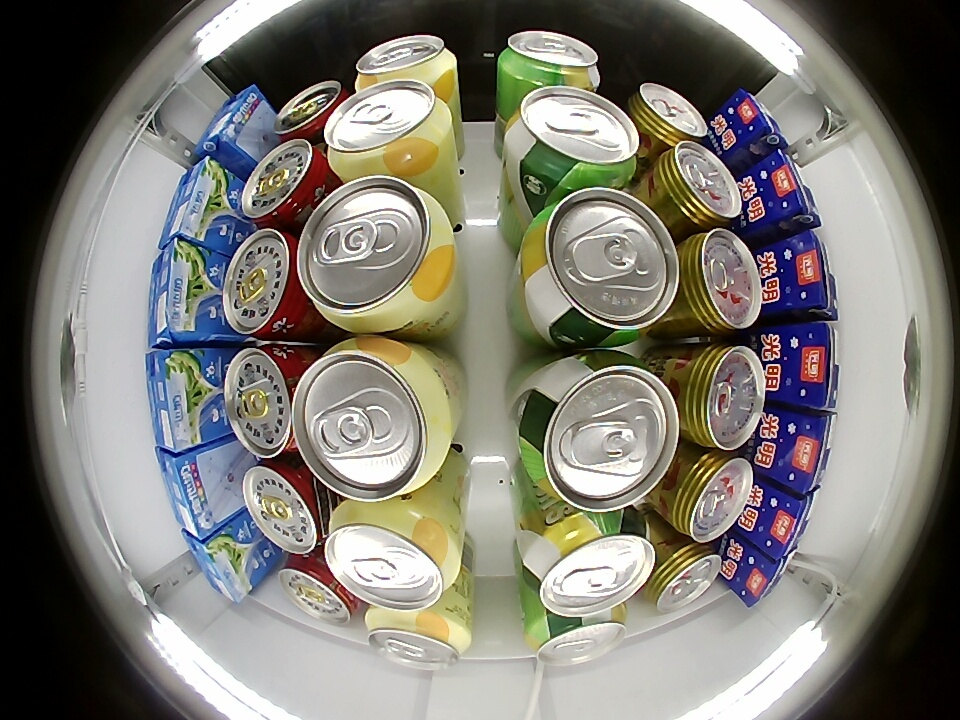bingqilinniunai: (743, 149, 822, 232), (766, 232, 838, 323), (765, 322, 839, 408), (767, 409, 837, 493), (711, 88, 788, 158), (751, 485, 822, 559), (733, 541, 798, 608)
hongniu2: (678, 342, 766, 449), (677, 228, 763, 334), (649, 140, 742, 228), (667, 449, 755, 542), (628, 83, 708, 151), (647, 540, 721, 611)
mangguoxiaolao: (291, 336, 454, 502), (297, 176, 456, 333), (325, 502, 462, 611), (324, 80, 452, 178), (365, 608, 473, 671), (354, 35, 456, 90)
quchenshixiangcao: (519, 348, 680, 512), (522, 188, 679, 348), (520, 510, 657, 618), (511, 86, 641, 188), (524, 602, 627, 666), (497, 31, 601, 90)
wangzainiunai: (223, 229, 315, 338), (224, 343, 305, 459), (242, 455, 332, 554), (241, 139, 330, 230), (278, 551, 361, 624), (272, 80, 346, 146)
weitanai: (148, 238, 226, 349), (145, 349, 219, 454), (159, 158, 234, 252), (192, 84, 270, 166), (182, 524, 262, 603), (157, 446, 221, 539)
